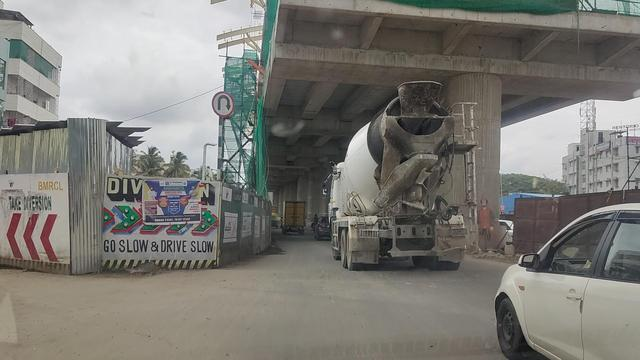HMV: (328, 80, 460, 271), (284, 200, 307, 235)
UnsurfacedRoad: (221, 260, 503, 283)
